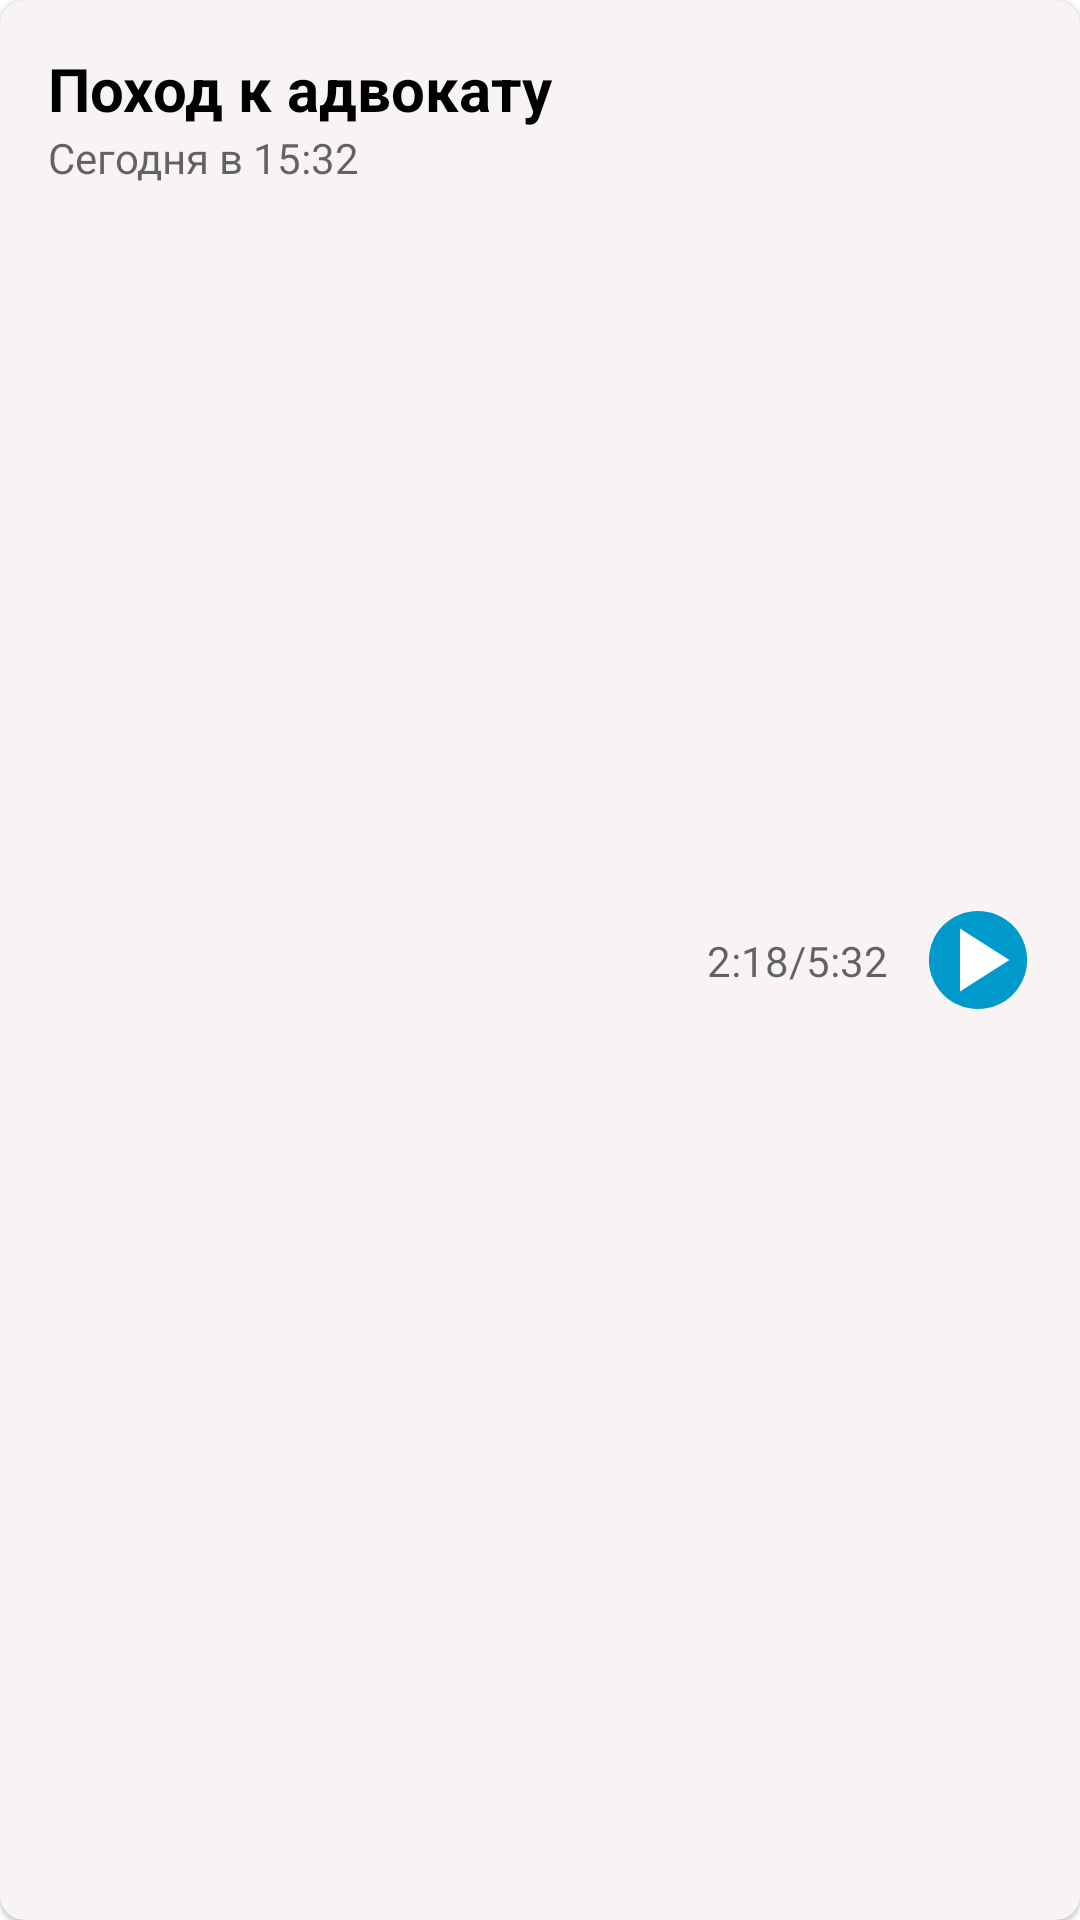

Screen size 1080px×1920px. Icon name, then its box in pixels as (x1, y1, x2, y2):
animated play to pause: (929, 911, 1027, 1009)
